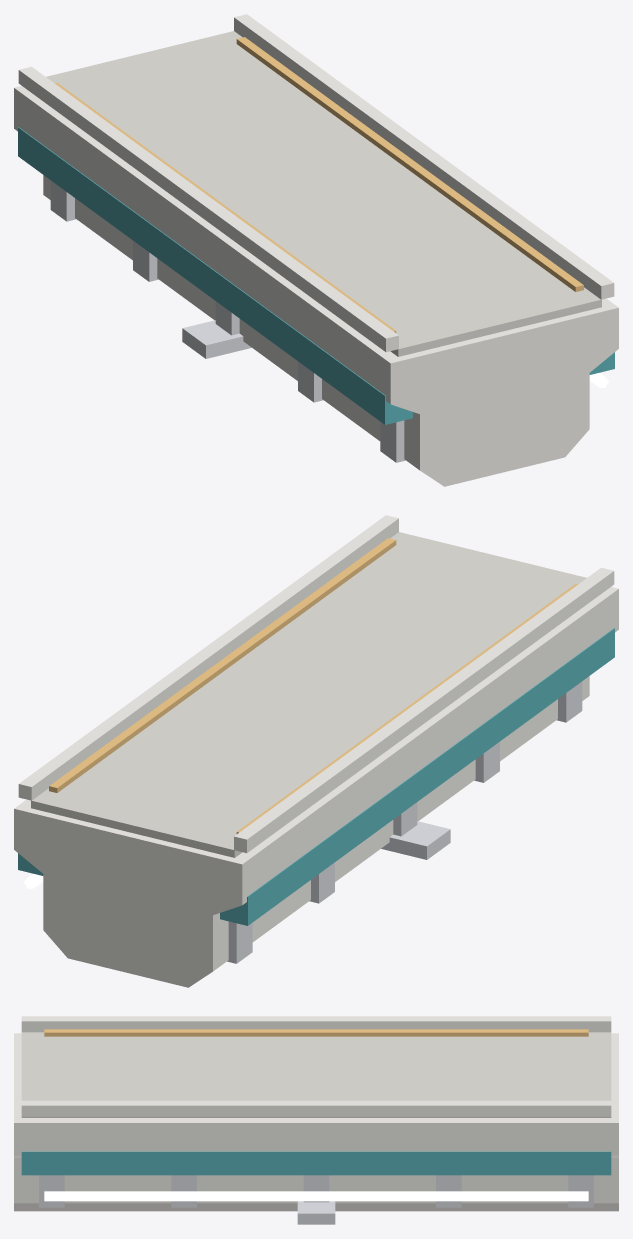
File: arcology-towers-and-skyways-maglev-guideway-straight-s-5b1e53ac__23256.glb
3 views of the same model, one above another, from view 1: azimuth 30°, elevation 25°; view 2: azimuth 150°, elevation 25°; view 3: azimuth 270°, elevation 25° (orthographic). The views are drawn at different scales.
Parts seen in each view (by area): view 1: maglev-guideway-straight-short; view 2: maglev-guideway-straight-short; view 3: maglev-guideway-straight-short.
Part boxes in pixels (bbox=[...]): maglev-guideway-straight-short: bbox=[14, 14, 618, 486]; maglev-guideway-straight-short: bbox=[14, 515, 618, 987]; maglev-guideway-straight-short: bbox=[14, 1016, 618, 1224].
Bounding box in the file's own units: 3.01 × 1.85 × 8.
